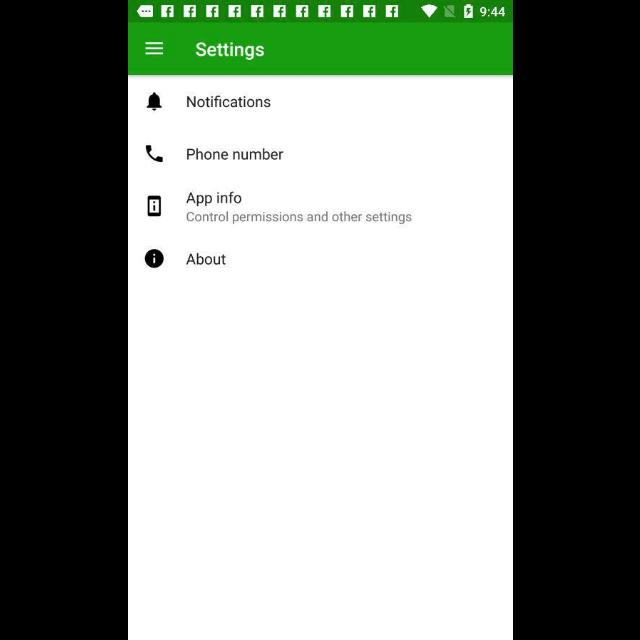icon: (144, 250, 162, 268), (147, 196, 161, 218), (146, 92, 162, 111), (145, 42, 163, 56)
image: (146, 146, 162, 162)
text: (186, 212, 410, 224), (194, 42, 264, 62), (186, 148, 284, 160), (186, 96, 270, 108), (186, 192, 242, 206), (186, 253, 226, 265)
toolbar: (128, 23, 512, 75)
uppertaskbar: (128, 1, 512, 23)
